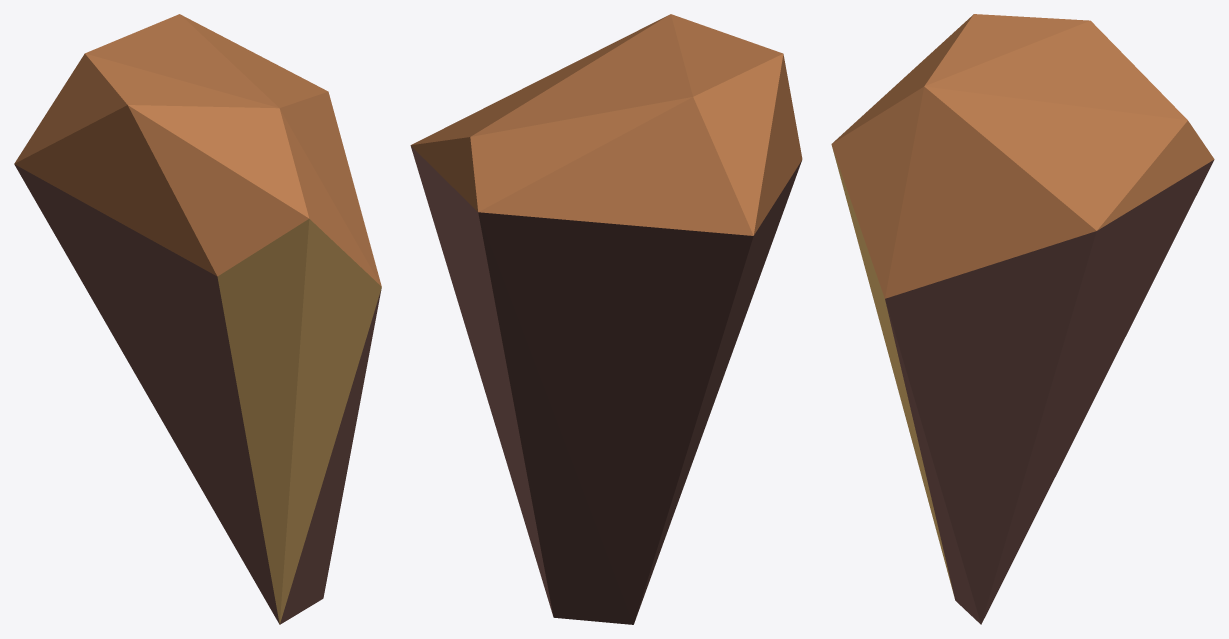
File: CommonTree_Autumn_4.lod4.glb
3 views of the same model, side by side, from view 1: azimuth 30°, elevation 25°; view 2: azimuth 150°, elevation 25°; view 3: azimuth 270°, elevation 25° (orthographic). The views are drawn at different scales.
Parts seen in each view (by area): view 1: CommonTree_Autumn_4; view 2: CommonTree_Autumn_4; view 3: CommonTree_Autumn_4.
Boxes of the visible parts, bbox=[...] form: CommonTree_Autumn_4: bbox=[14, 14, 381, 624]; CommonTree_Autumn_4: bbox=[410, 14, 802, 624]; CommonTree_Autumn_4: bbox=[831, 14, 1214, 624].
Bounding box in the file's own units: 1.62 × 2.76 × 1.83.
